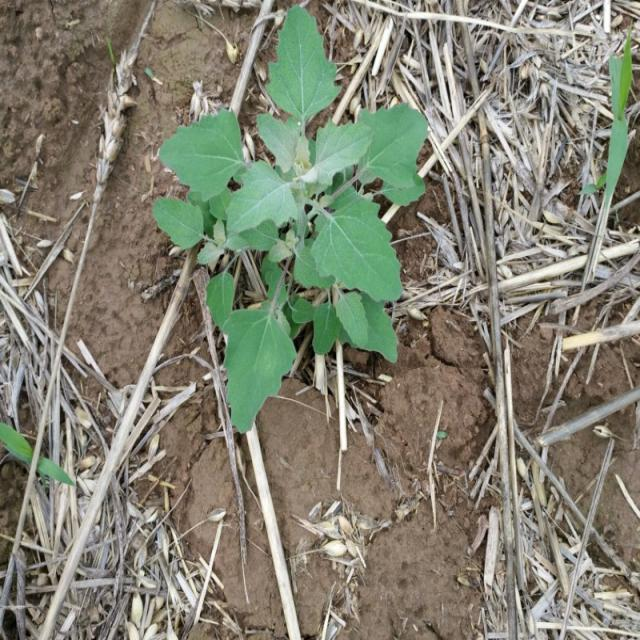goosefoots: (139, 21, 433, 422)
